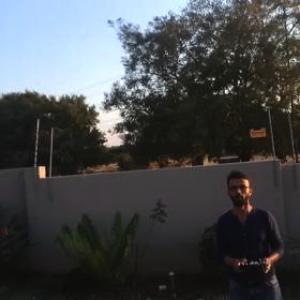follow: (212, 166, 290, 299)
